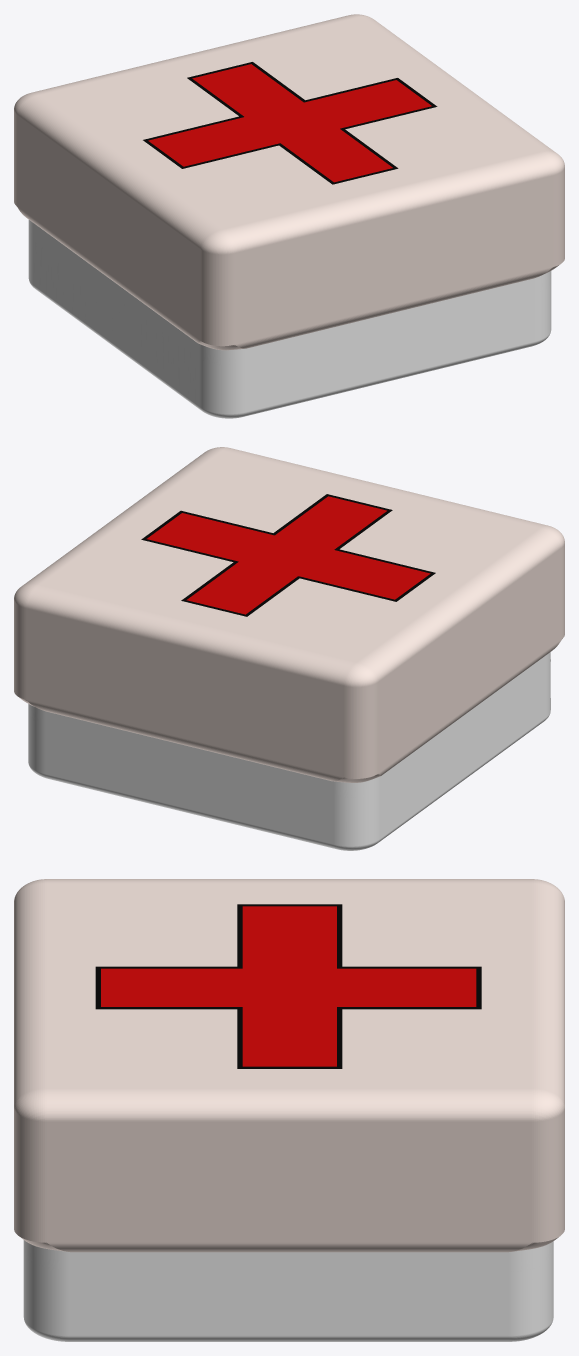
The model's file is healthpack.glb.
3 renders of one model, top to bottom at view 1: azimuth 30°, elevation 25°; view 2: azimuth 150°, elevation 25°; view 3: azimuth 270°, elevation 25°, orthographic. The views are drawn at different scales.
Visible parts, largest first — view 1: health_kit; view 2: health_kit; view 3: health_kit.
Boxes of the visible parts, x1=… form: health_kit: x1=14, y1=14, x2=564, y2=418; health_kit: x1=14, y1=447, x2=564, y2=850; health_kit: x1=14, y1=879, x2=564, y2=1341.
Bounding box in the file's own units: 208 × 106 × 208.
